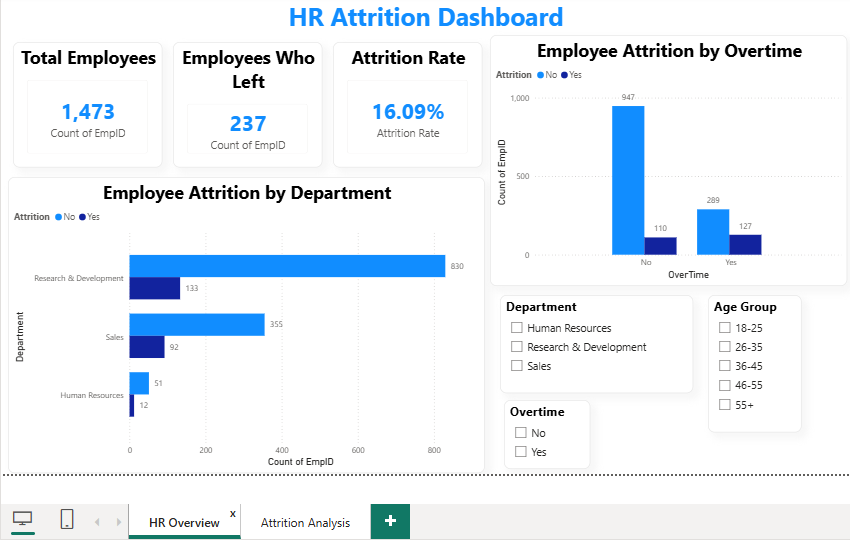

The page's visual inventory and layout, read from the dashboard file:
{"tool":"powerbi","page":{"name":"HR Overview","canvas":[1280,720],"ordinal":0},"visuals":[{"type":"cardVisual","title":"Total Employees","fields":{"Data":["CountNonNull(HR_Analytics_Cleaned.EmpID)"]},"box":[17.9,69.6,224.9,189.2],"z":0},{"type":"cardVisual","title":"Employees Who Left","fields":{"Data":["CountNonNull(HR_Analytics_Cleaned.EmpID)"]},"box":[258.9,69.6,224.9,189.2],"z":1},{"type":"cardVisual","title":"Attrition Rate","fields":{"Data":["HR_Analytics_Cleaned.Attrition Rate"]},"box":[499.9,69.6,224.9,189.2],"z":2},{"type":"clusteredBarChart","title":"Employee Attrition by Department","fields":{"Category":["HR_Analytics_Cleaned.Department"],"Y":["CountNonNull(HR_Analytics_Cleaned.EmpID)"],"Series":["HR_Analytics_Cleaned.Attrition"]},"box":[10.7,273.1,717.7,446.3],"z":3},{"type":"slicer","title":"Department","fields":{"Values":["HR_Analytics_Cleaned.Department"]},"box":[751.6,449.9,291,148.2],"z":7},{"type":"slicer","title":"Age Group","fields":{"Values":["HR_Analytics_Cleaned.AgeGroup"]},"box":[1064,449.9,141,207.1],"z":8},{"type":"slicer","title":"Overtime","fields":{"Values":["HR_Analytics_Cleaned.OverTime"]},"box":[756.9,608.8,130.3,103.5],"z":9},{"type":"textbox","box":[0,0,1280,58.9],"z":10},{"type":"clusteredColumnChart","title":"Employee Attrition by Overtime","fields":{"Category":["HR_Analytics_Cleaned.OverTime"],"Y":["CountNonNull(HR_Analytics_Cleaned.EmpID)"],"Series":["HR_Analytics_Cleaned.Attrition"]},"box":[736.4,58.2,538.2,378.2],"z":11}]}

Visuals, with their boxes on the page's 1280x720 design canvas (x1, y1, x2, y2). These are canvas units, not pixel positions in the 850x540 screenshot, which may show the page scaled, cropped or inside an application window:
"Total Employees" cardVisual: locate(18, 70, 243, 259)
"Employees Who Left" cardVisual: locate(259, 70, 484, 259)
"Attrition Rate" cardVisual: locate(500, 70, 725, 259)
"Employee Attrition by Department" clusteredBarChart: locate(11, 273, 728, 719)
"Department" slicer: locate(752, 450, 1043, 598)
"Age Group" slicer: locate(1064, 450, 1205, 657)
"Overtime" slicer: locate(757, 609, 887, 712)
textbox: locate(0, 0, 1280, 59)
"Employee Attrition by Overtime" clusteredColumnChart: locate(736, 58, 1275, 436)
